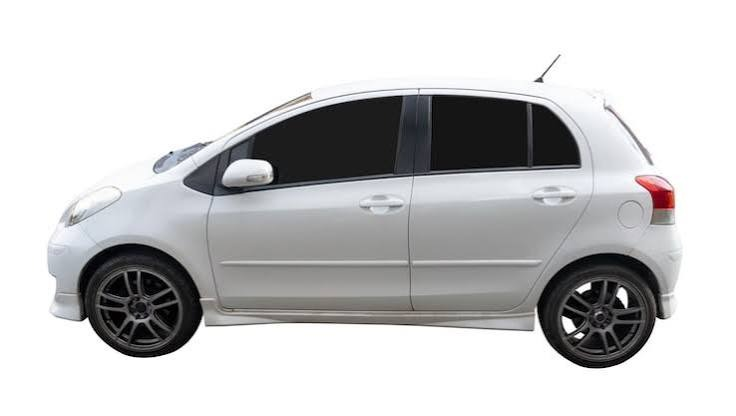car: (38, 69, 691, 359)
